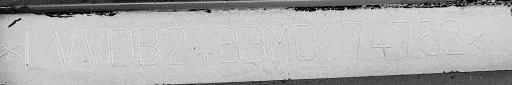letter: (160, 24, 190, 69), (21, 28, 51, 71), (212, 22, 242, 65), (132, 25, 162, 68), (239, 21, 267, 66), (338, 18, 366, 61), (265, 20, 293, 63), (106, 26, 134, 67), (438, 16, 466, 57), (290, 21, 318, 62), (187, 24, 215, 65), (78, 25, 106, 66), (51, 27, 77, 70), (414, 17, 442, 56), (367, 18, 393, 59), (389, 17, 413, 58), (320, 22, 340, 63)
